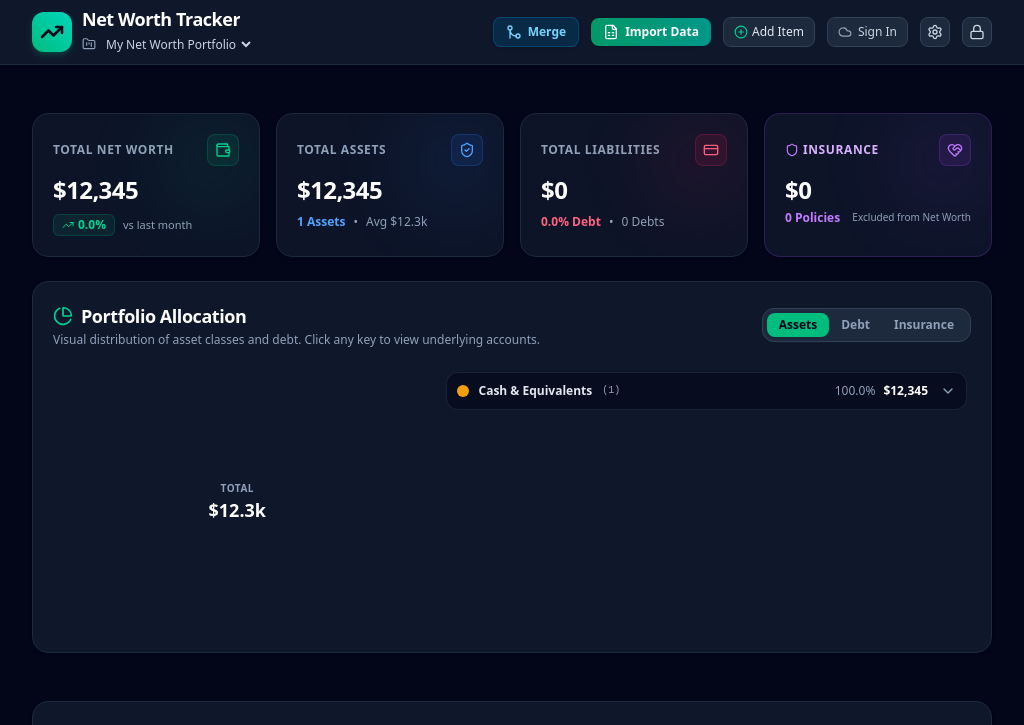
Test: App › can open manage files
Select "⚙️ Manage Portfolios..." in the dropdown: (178, 44) [102, 33, 254, 56]
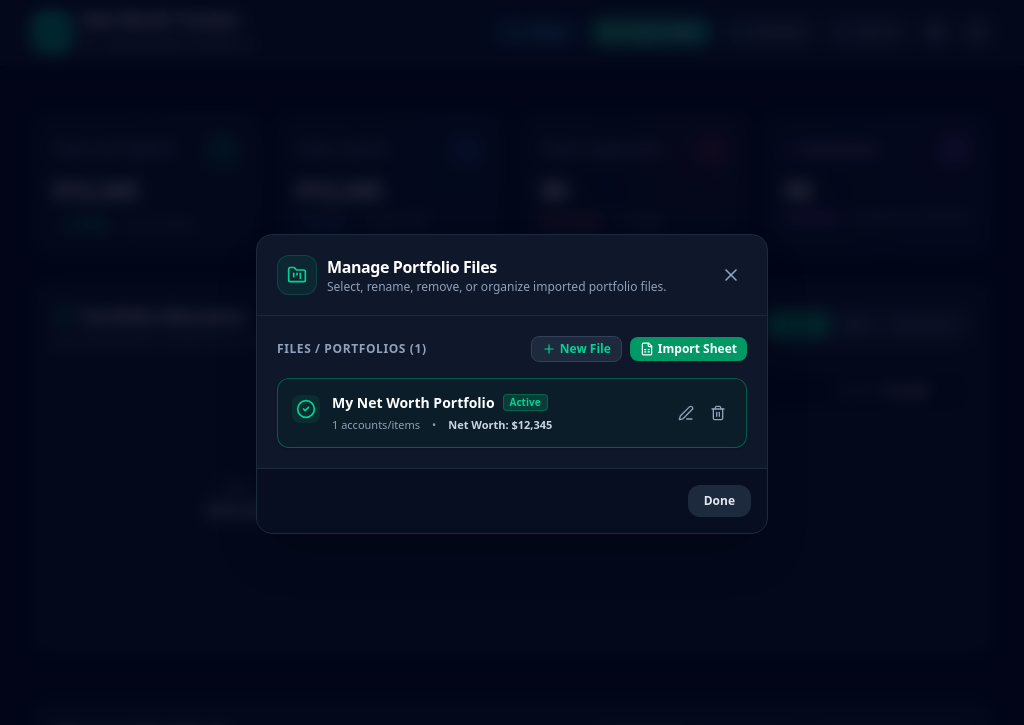
Check: the heading "Manage Portfolio Files" is shown, box [327, 256, 497, 278]
